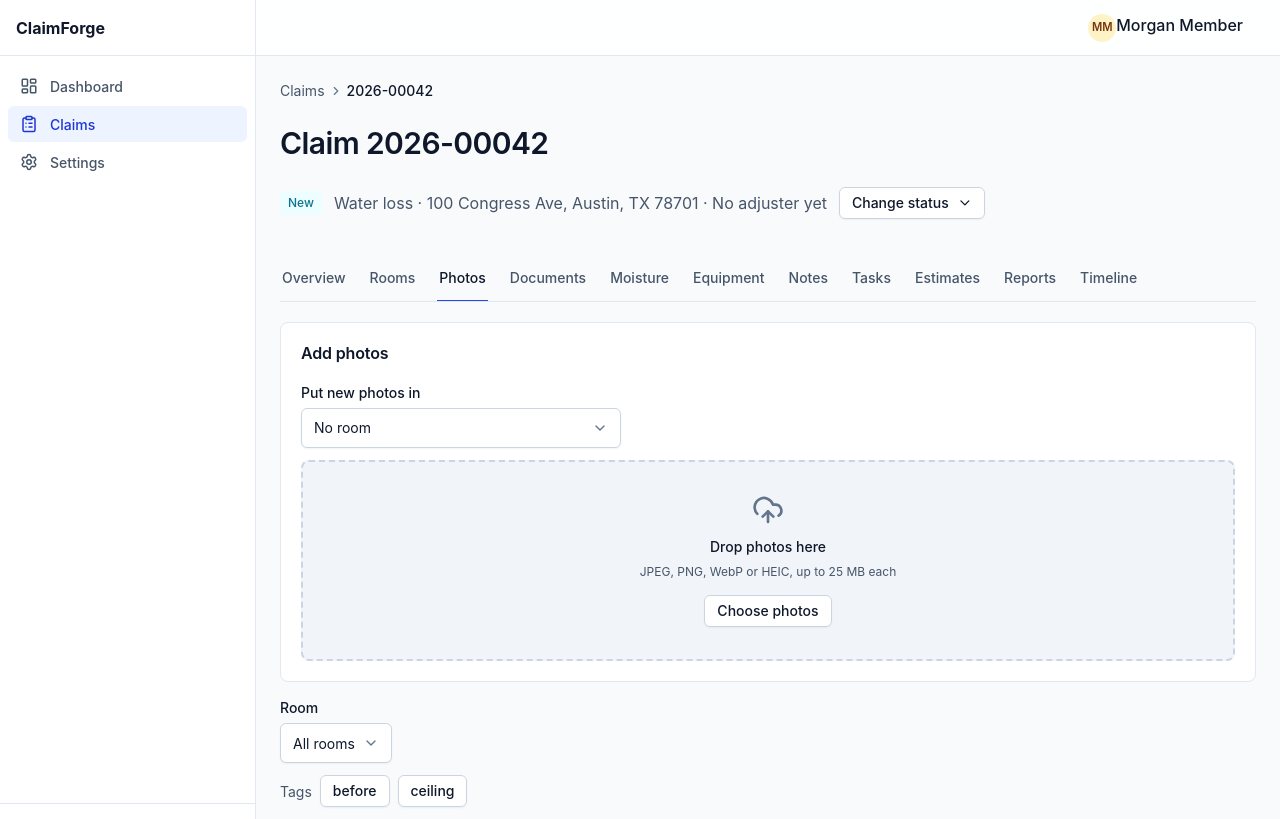
Test case: filtering › by tags, a photo needing every tag chosen
Click the button "ceiling": (432, 791) 398,775 -> 468,807
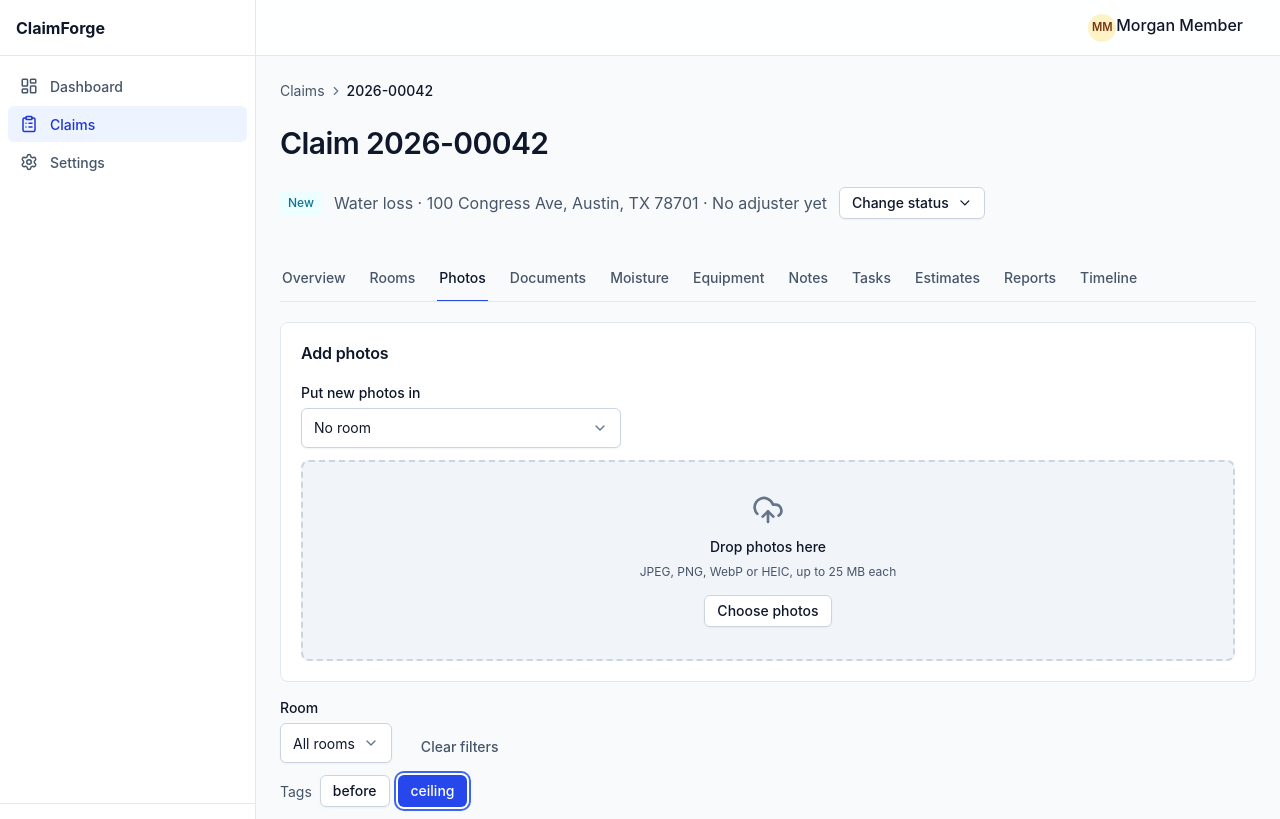
Expected: the button "ceiling" is pressed, 398,775 -> 468,807
